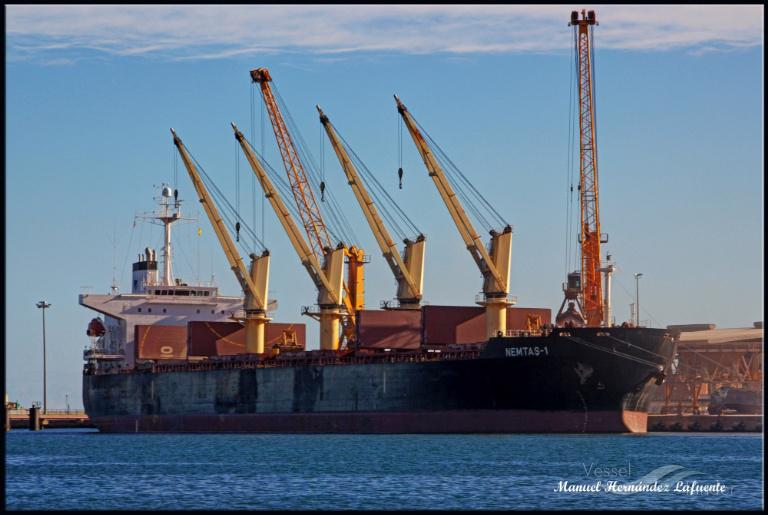OCR: (502, 338, 552, 358)
